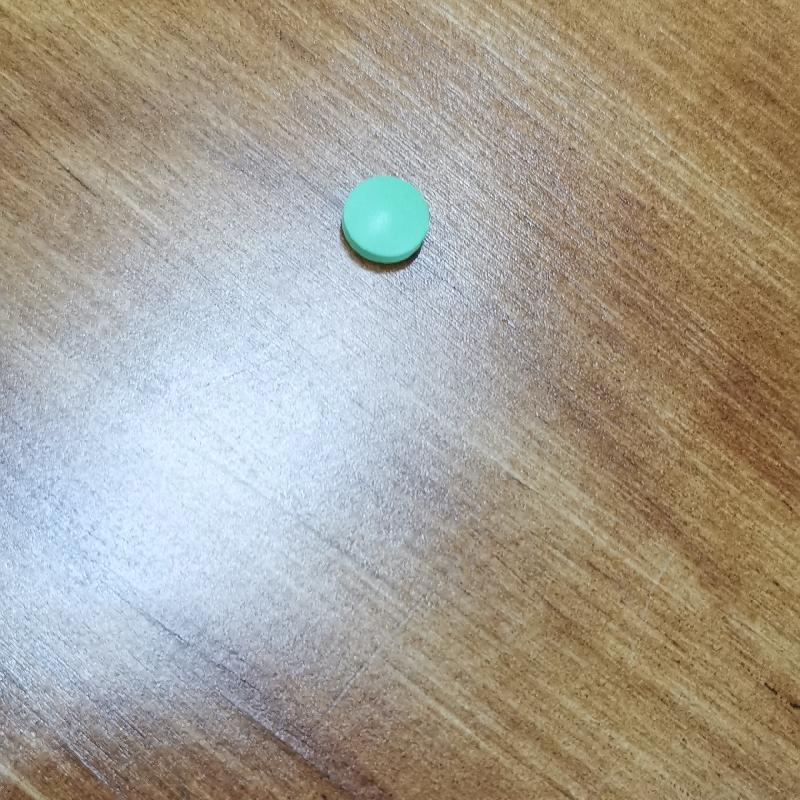pills: (304, 157, 449, 300)
